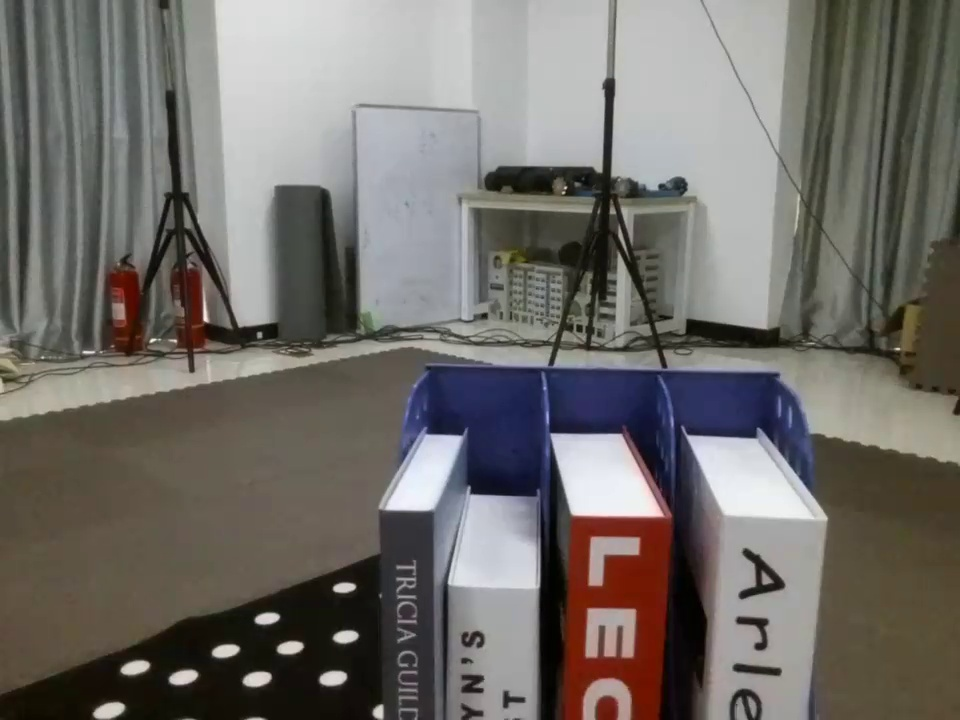files: (357, 354, 865, 718)
